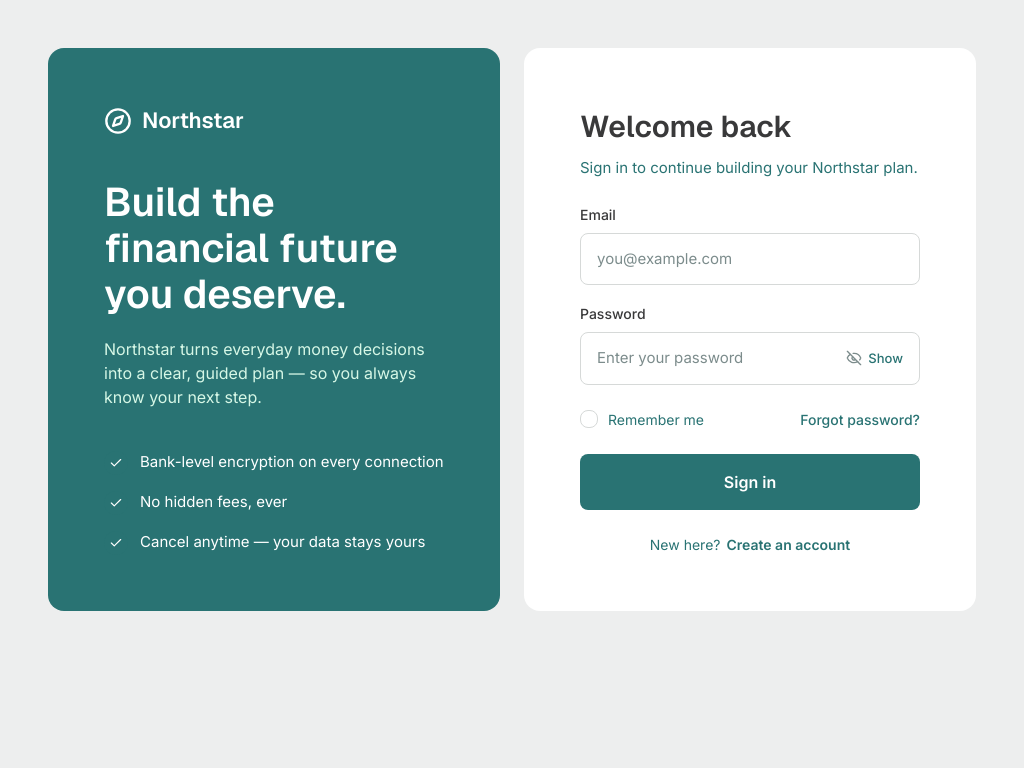
Test: an invalid sign-in › explains what is wrong with the email
The width and height of the screenshot is (1024, 768).
In the field labelled "Email": coordinates (750, 259) x1=597 y1=248 x2=903 y2=270, type "not-an-email"
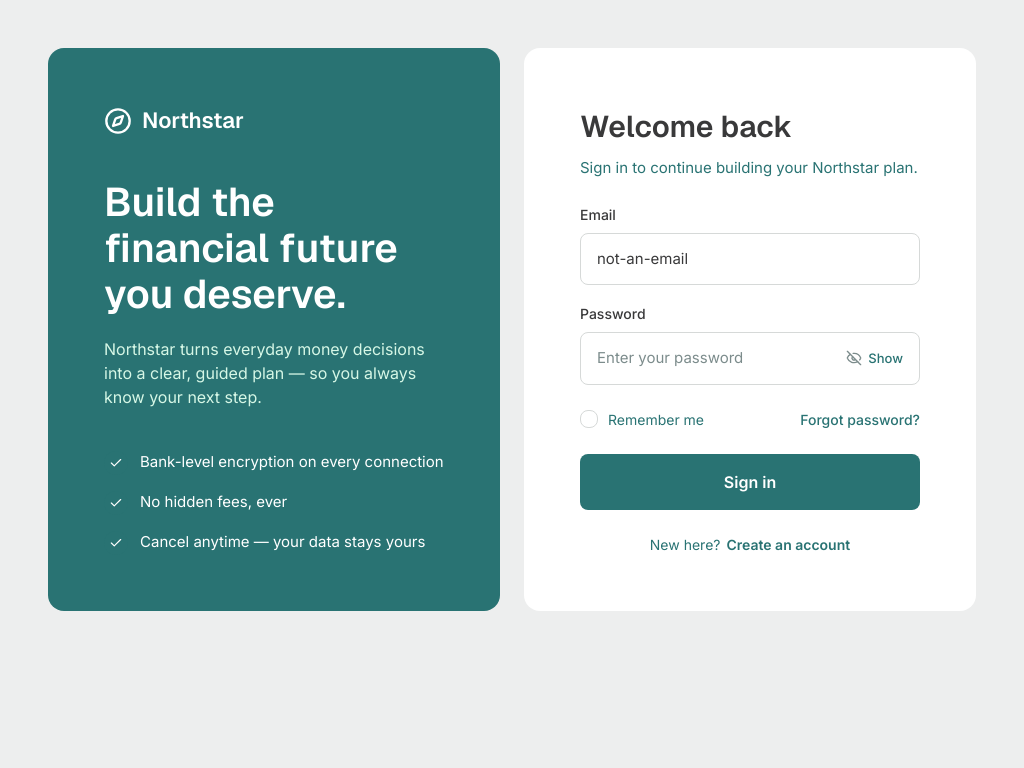
In the password field labelled "Password": coordinates (718, 358) x1=597 y1=347 x2=838 y2=370, type "s3cret"
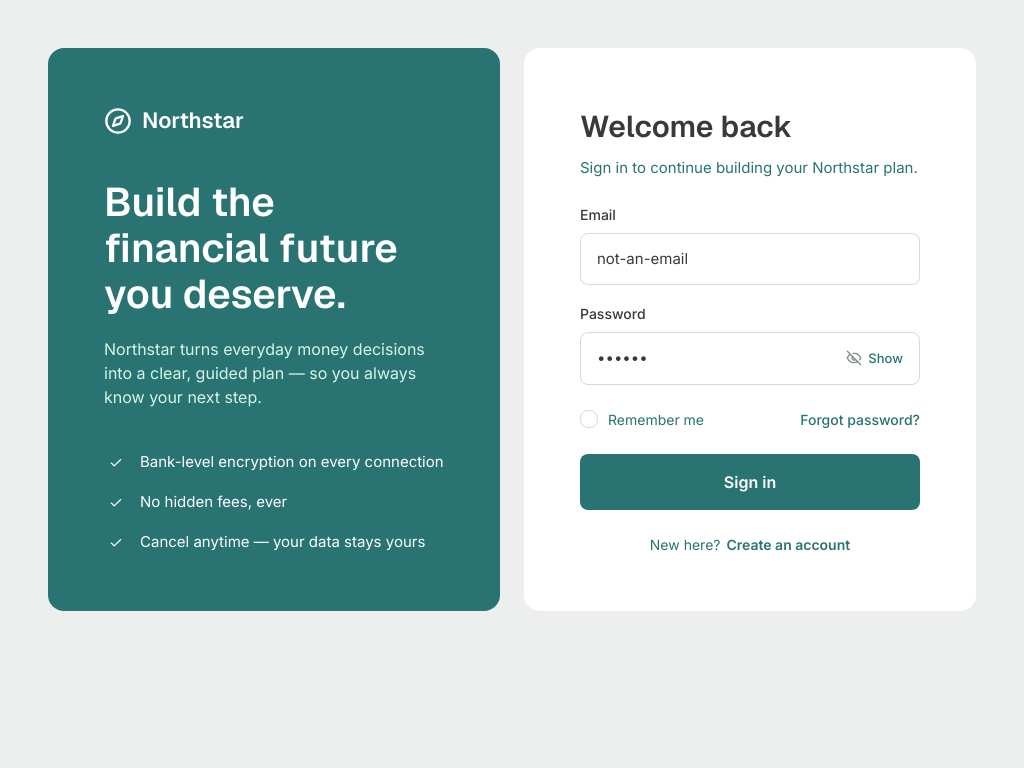
Click the button "Sign in": coordinates (750, 482) x1=580 y1=454 x2=920 y2=510
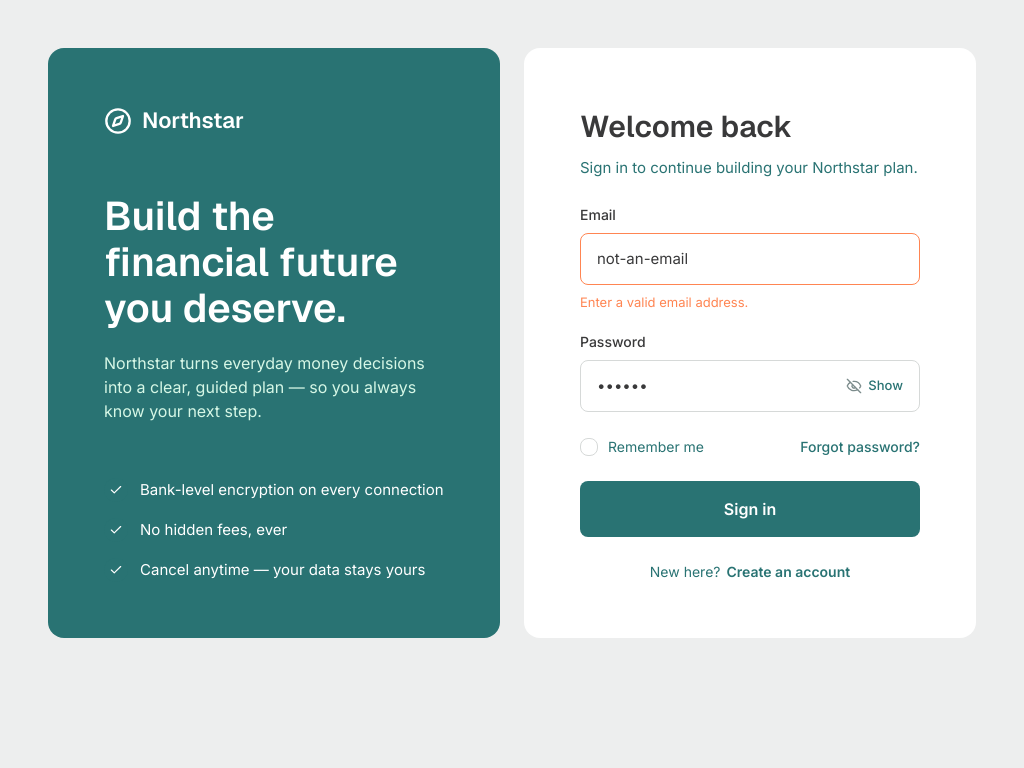
Expected: the text "Enter a valid email address." is shown, x1=580 y1=294 x2=748 y2=310
